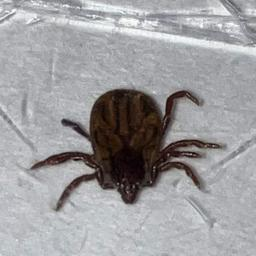Rhipicephalus sanguineus: (26, 87, 221, 211)
